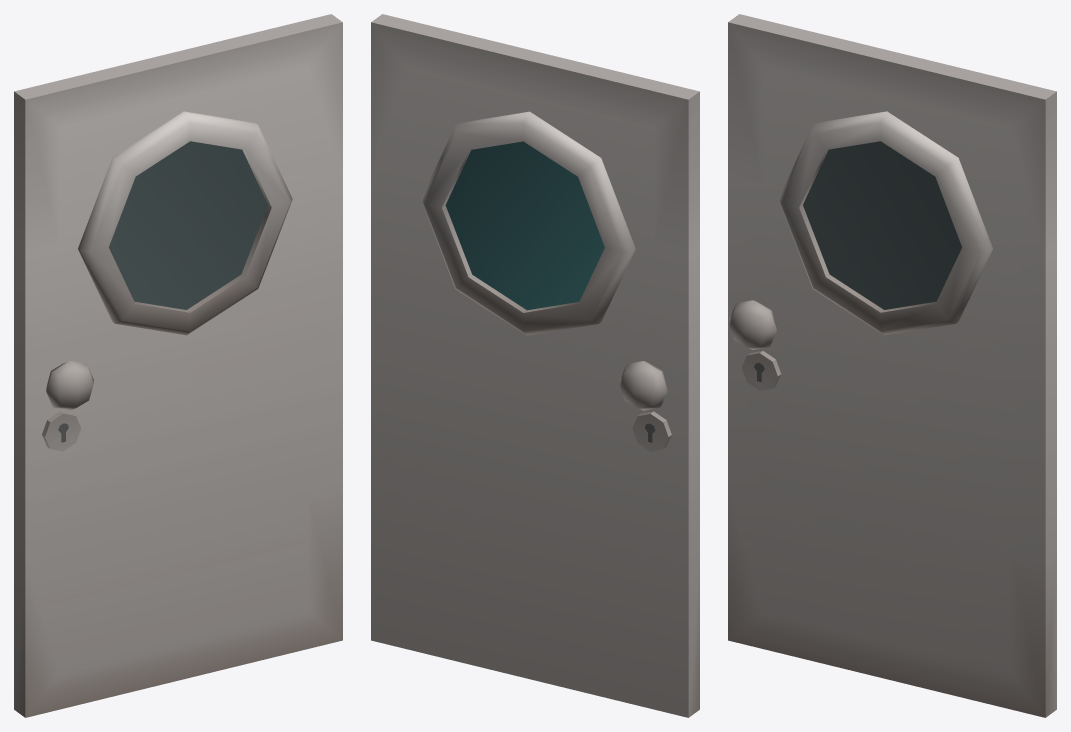
File: Door.fbx
The picture shows the model from 3 angles, left to right: view 1: azimuth 30°, elevation 25°; view 2: azimuth 150°, elevation 25°; view 3: azimuth 330°, elevation 25°; orthographic projection.
Visible parts, largest first — view 1: Door; view 2: Door; view 3: Door.
Boxes of the visible parts, bbox=[...] form: Door: bbox=[14, 14, 342, 717]; Door: bbox=[371, 14, 699, 717]; Door: bbox=[728, 14, 1056, 717].
Size of the model in its own units: 116 by 216 by 31.21.
